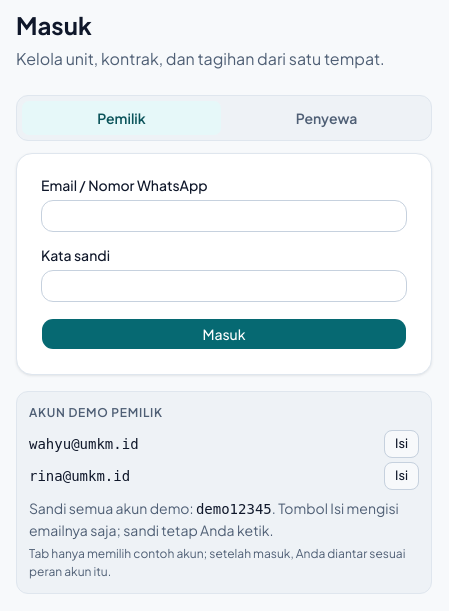
it: LoginPage › mengisi email demo tanpa mengisi kata sandi
Click the button with aria-label "Isi email rina@umkm.id" at (402, 476), box [384, 462, 419, 490]
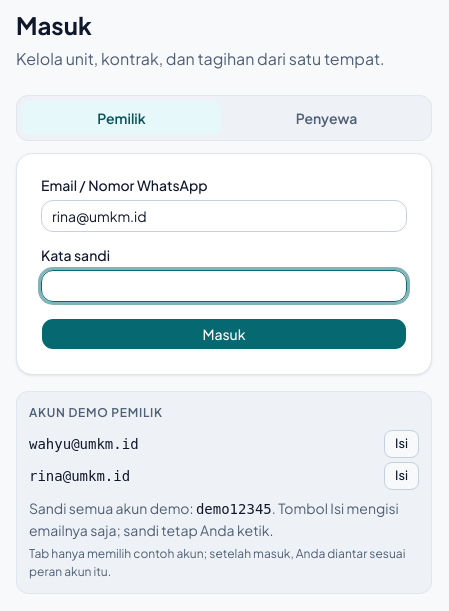
Expected: the password field labelled "Kata sandi" is empty, [41, 270, 407, 302]
Expected: the field labelled "Email / Nomor WhatsApp" holds "rina@umkm.id", [41, 200, 407, 232]
